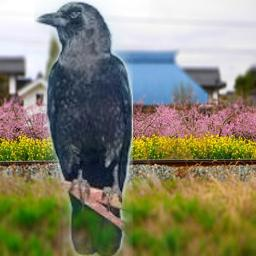Crow: (34, 0, 133, 256)
